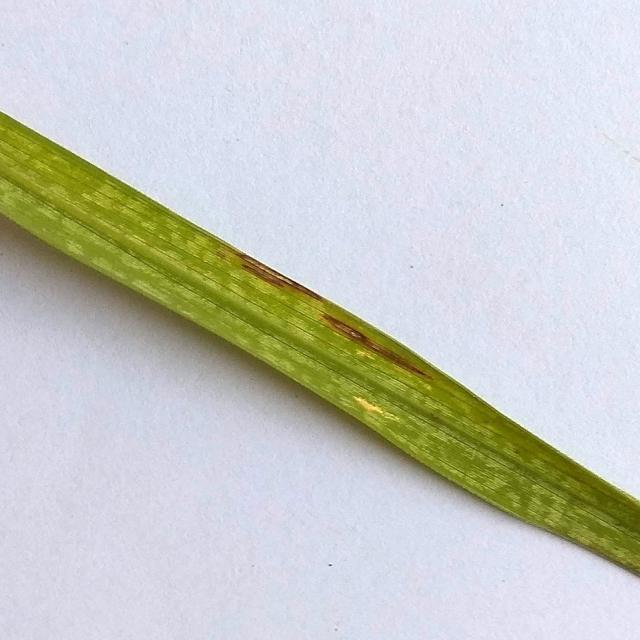Blast: (331, 315, 364, 343), (243, 256, 264, 276), (270, 272, 291, 286)
